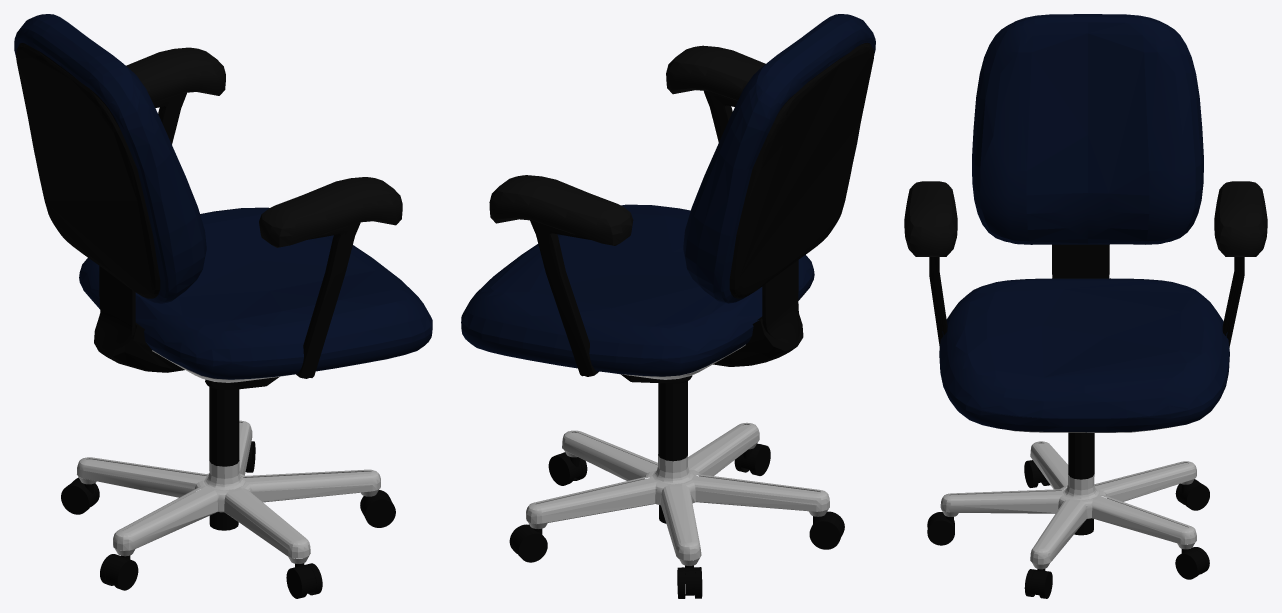
File: stoel.FBX
The picture shows the model from 3 angles, left to right: view 1: azimuth 30°, elevation 25°; view 2: azimuth 150°, elevation 25°; view 3: azimuth 270°, elevation 25°; orthographic projection. The views are drawn at different scales.
Parts seen in each view (by area): view 1: Stoel, basis, Arm steunen, Support pillaar, Wielen, Steunen; view 2: Stoel, basis, Arm steunen, Support pillaar, Wielen, Steunen; view 3: Stoel, basis, Arm steunen, Wielen, Support pillaar, Steunen.
Boxes of the visible parts, x1=… form: Stoel: x1=14, y1=14, x2=432, y2=382; basis: x1=77, y1=420, x2=380, y2=563; Arm steunen: x1=126, y1=47, x2=402, y2=247; Support pillaar: x1=94, y1=266, x2=279, y2=530; Wielen: x1=61, y1=441, x2=395, y2=598; Steunen: x1=153, y1=92, x2=360, y2=378; Stoel: x1=461, y1=14, x2=875, y2=379; basis: x1=526, y1=422, x2=829, y2=565; Arm steunen: x1=489, y1=45, x2=765, y2=245; Support pillaar: x1=621, y1=260, x2=803, y2=523; Wielen: x1=509, y1=443, x2=844, y2=598; Steunen: x1=530, y1=91, x2=737, y2=376; Stoel: x1=939, y1=14, x2=1229, y2=432; basis: x1=940, y1=441, x2=1196, y2=569; Arm steunen: x1=904, y1=181, x2=1267, y2=256; Wielen: x1=927, y1=460, x2=1209, y2=598; Support pillaar: x1=1052, y1=244, x2=1110, y2=535; Steunen: x1=929, y1=257, x2=1244, y2=347.
Size of the model in its own units: 0.7134 by 1.11 by 0.7887.
